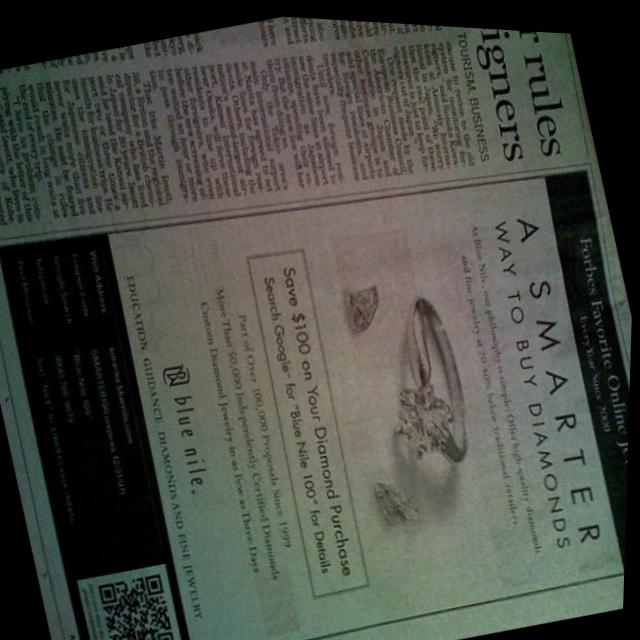qrcode: (100, 569, 181, 640)
